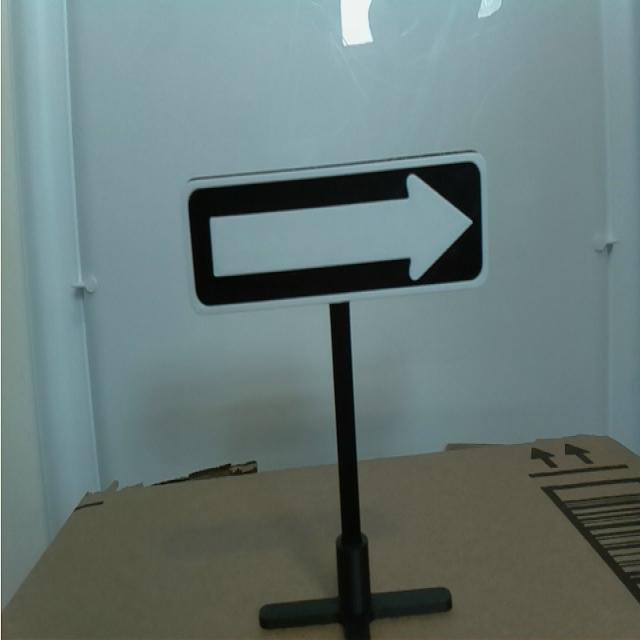sign_oneway_right: (156, 132, 506, 335)
